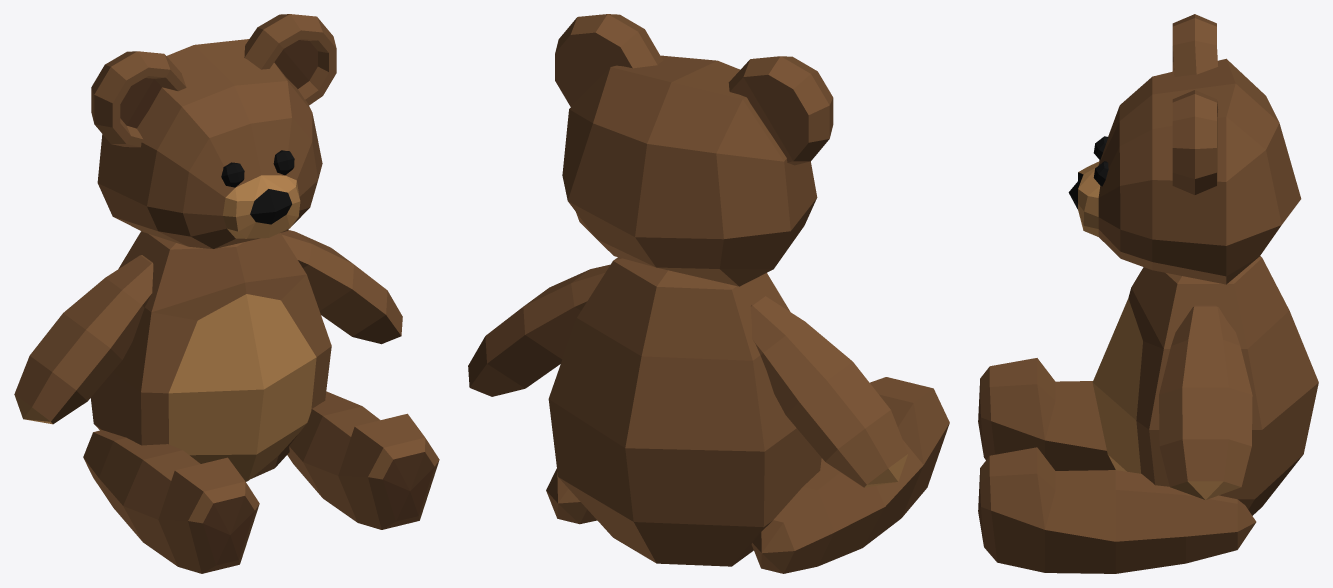
The model's file is toy-teddy-bear-a.glb.
The picture shows the model from 3 angles, left to right: view 1: azimuth 30°, elevation 25°; view 2: azimuth 150°, elevation 25°; view 3: azimuth 270°, elevation 25°; orthographic projection. The views are drawn at different scales.
Parts seen in each view (by area): view 1: toy_teddy_bear_a; view 2: toy_teddy_bear_a; view 3: toy_teddy_bear_a.
Part boxes in pixels (bbox=[...]): toy_teddy_bear_a: bbox=[14, 14, 439, 573]; toy_teddy_bear_a: bbox=[468, 14, 949, 573]; toy_teddy_bear_a: bbox=[978, 14, 1318, 573].
Bounding box in the file's own units: 0.3136 × 0.3725 × 0.2447.
Materials: 1 (1 with a texture image).
